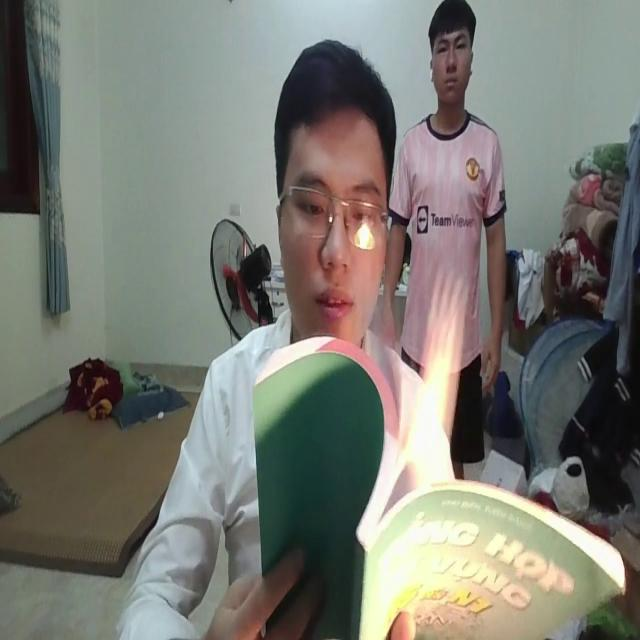book: (248, 326, 620, 640)
extra_person: (376, 2, 508, 484)
student: (127, 50, 440, 640)
